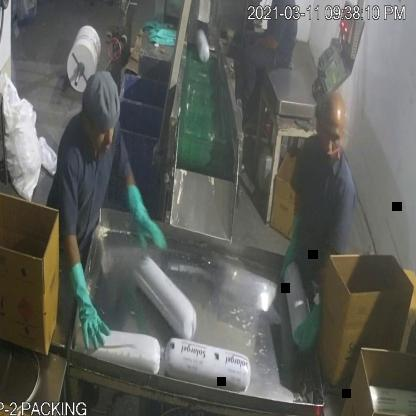glove: (64, 256, 113, 361), (116, 179, 173, 266), (274, 206, 304, 282), (297, 288, 328, 361)
